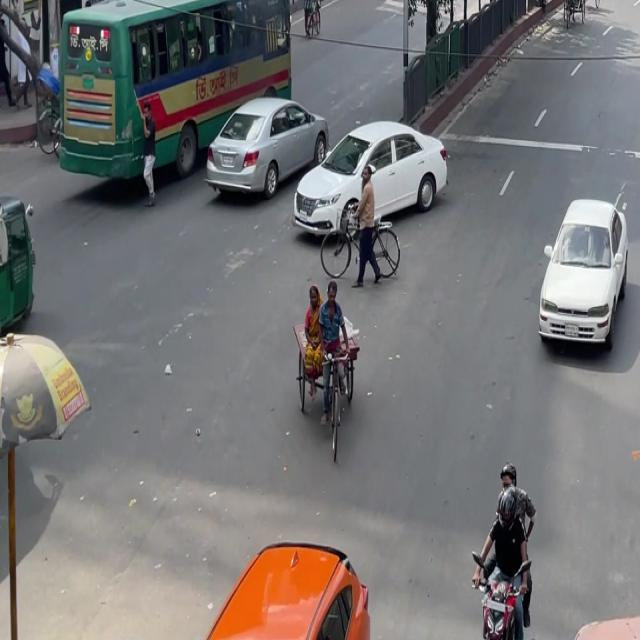bicycle: (321, 201, 402, 282)
bus: (68, 0, 296, 185)
car: (291, 101, 452, 242), (188, 74, 329, 219), (529, 183, 639, 364), (636, 0, 640, 53)
motorbike: (455, 448, 548, 634)
rickshaw: (0, 182, 42, 360)
van: (280, 268, 372, 476)
